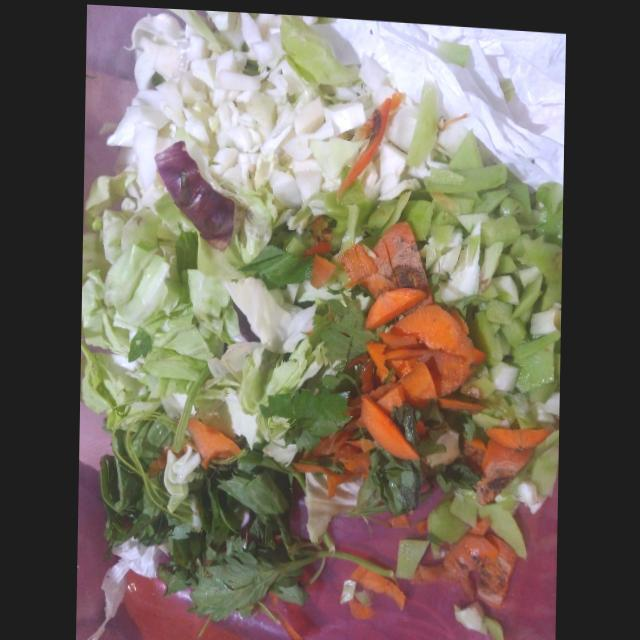biowaste: (368, 74, 563, 413), (291, 396, 559, 602), (104, 7, 374, 203), (98, 416, 328, 619), (79, 195, 258, 453), (338, 215, 486, 455), (221, 273, 380, 463), (153, 138, 235, 248)
